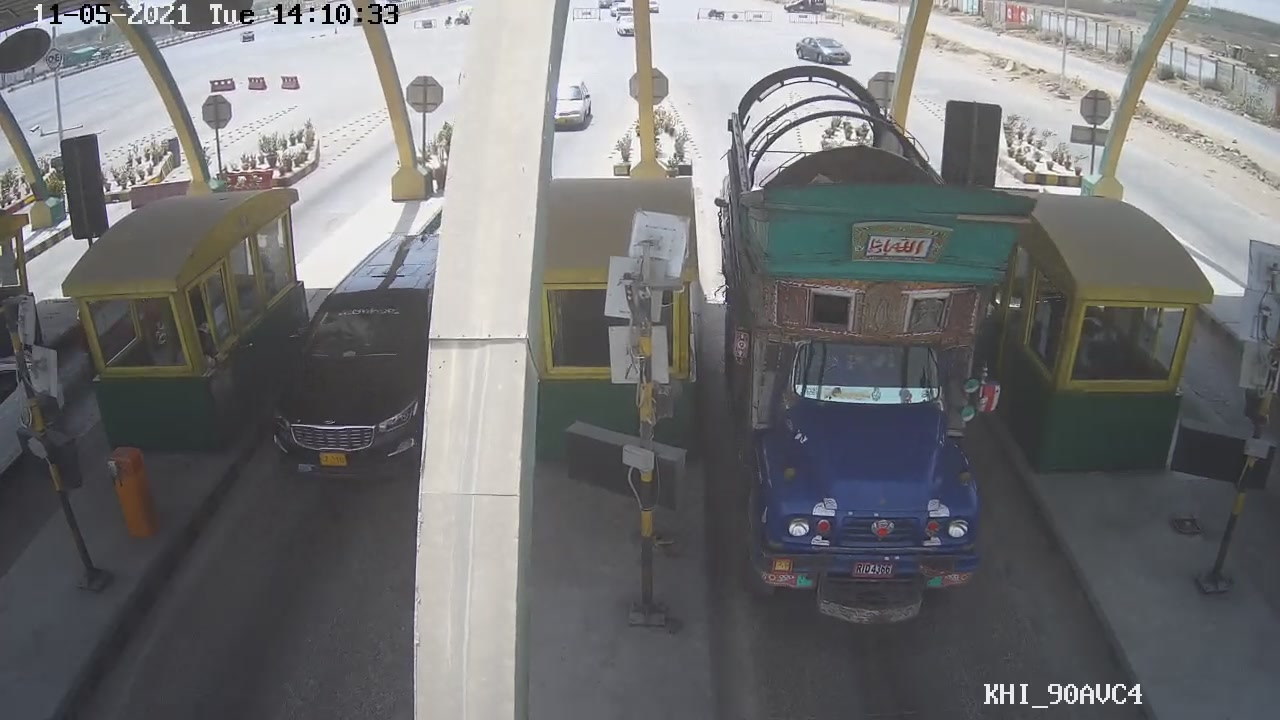F5: (704, 101, 1048, 626)
